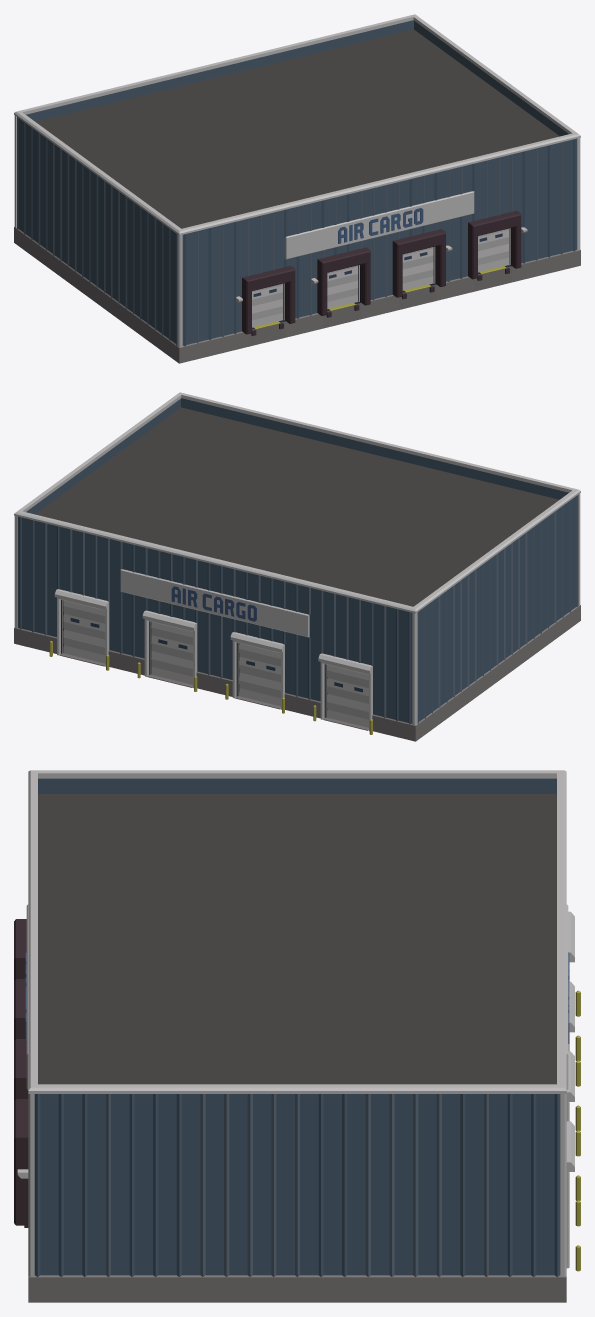
The model's file is cargo-shed-bcb2a8.glb.
3 renders of one model, top to bottom at view 1: azimuth 30°, elevation 25°; view 2: azimuth 150°, elevation 25°; view 3: azimuth 270°, elevation 25°, orthographic. The views are drawn at different scales.
Visible parts, largest first — view 1: cargo-shed-body, shutter-dock-2-curtain, shutter-dock-3-curtain, shutter-dock-1-curtain, shutter-dock-4-curtain; view 2: cargo-shed-body; view 3: cargo-shed-body.
Boxes of the visible parts, bbox=[...] form: cargo-shed-body: bbox=[14, 14, 580, 363]; shutter-dock-2-curtain: bbox=[327, 265, 358, 309]; shutter-dock-3-curtain: bbox=[402, 247, 433, 290]; shutter-dock-1-curtain: bbox=[252, 283, 282, 327]; shutter-dock-4-curtain: bbox=[478, 228, 508, 272]; cargo-shed-body: bbox=[14, 392, 580, 741]; cargo-shed-body: bbox=[14, 770, 580, 1302].
Bounding box in the file's own units: 32 × 10 × 24.
